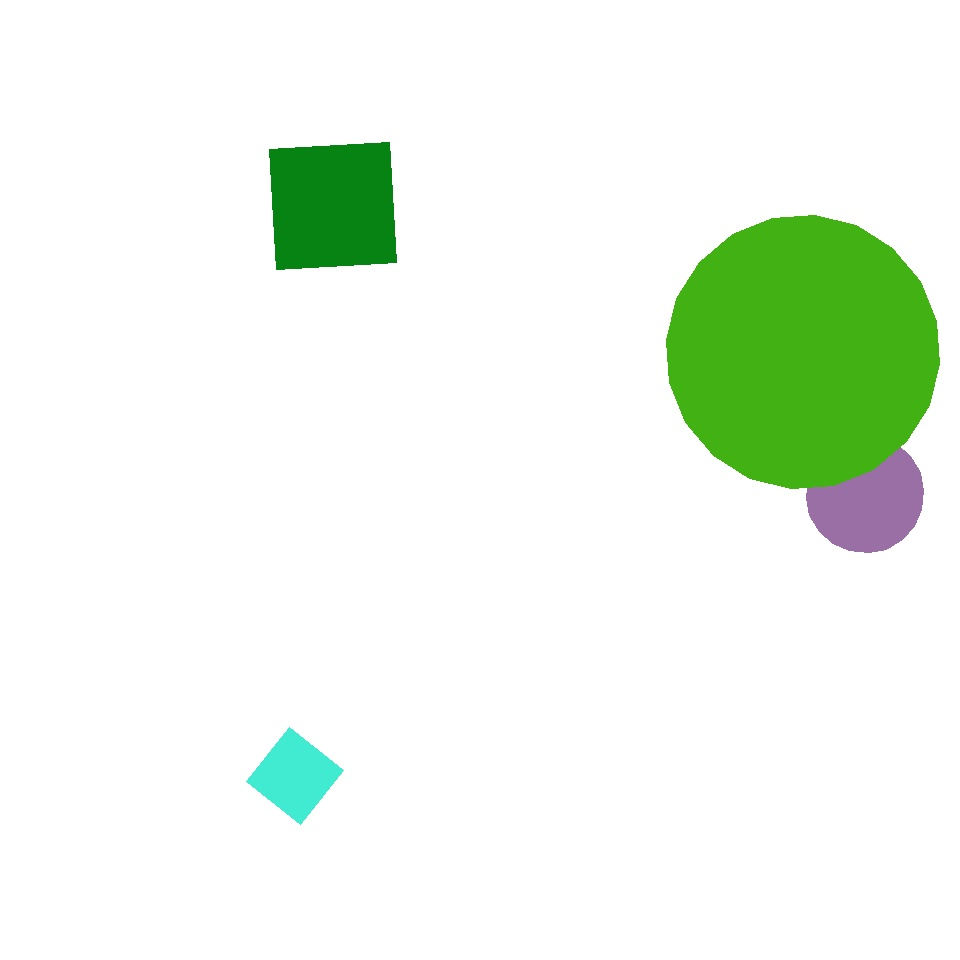square: (68, 103, 366, 400), (270, 142, 396, 270), (246, 728, 344, 824)
triangle: (92, 474, 452, 834), (166, 122, 513, 468), (474, 568, 802, 895), (666, 215, 940, 488), (806, 436, 924, 552)
